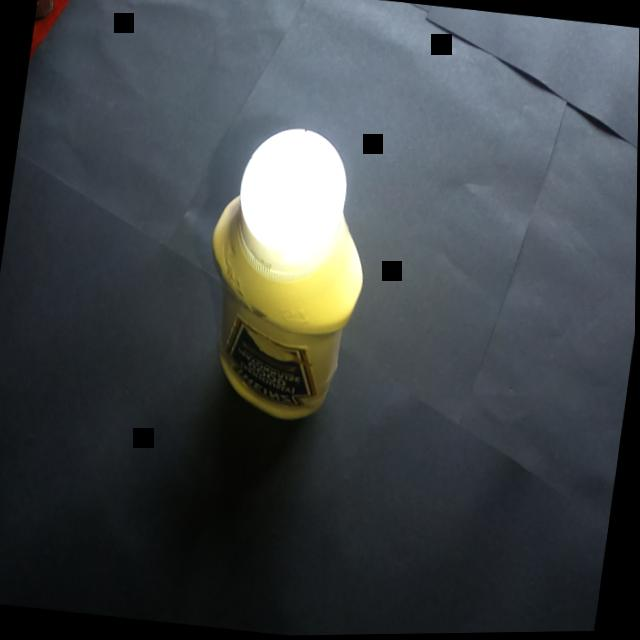Mayonnaise: (172, 88, 401, 446)
